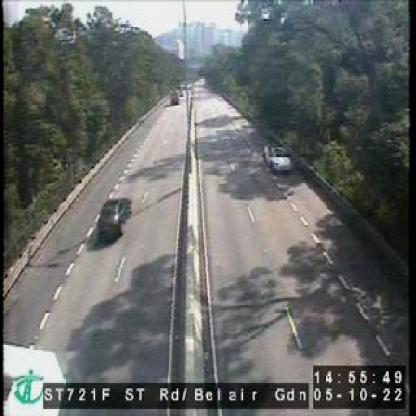Car: (95, 198, 127, 239), (264, 142, 292, 173)
